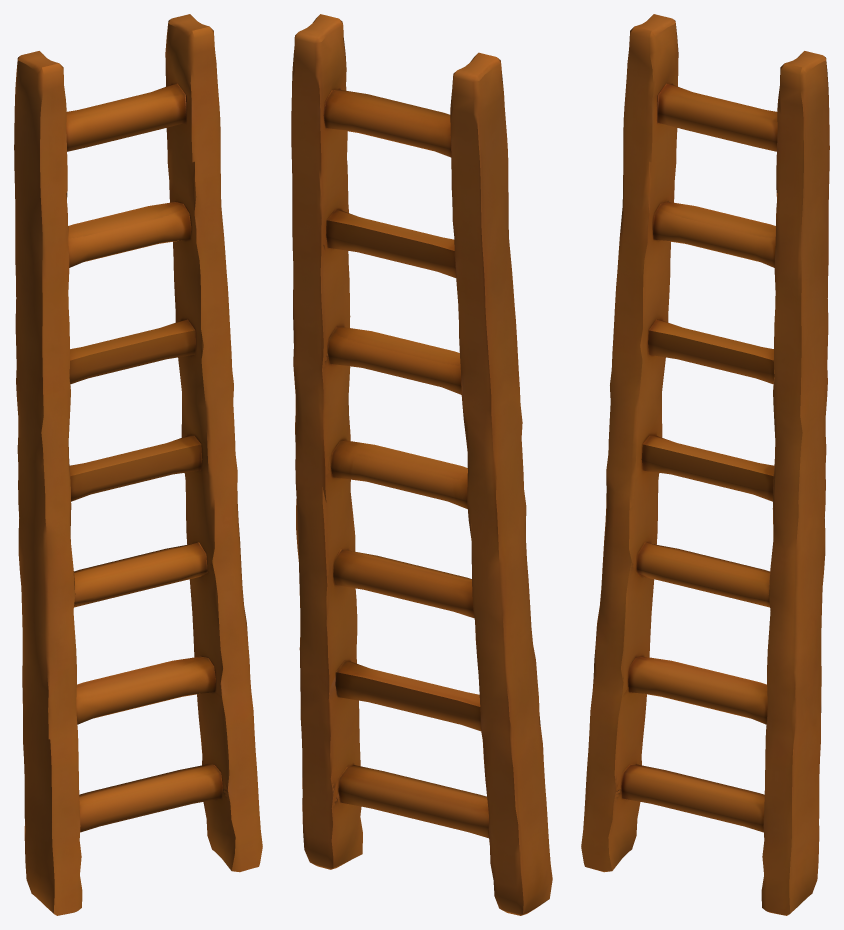
Rendered from base_basic_pbr.fbx.
3 views of the same model, side by side, from view 1: azimuth 30°, elevation 25°; view 2: azimuth 150°, elevation 25°; view 3: azimuth 330°, elevation 25° (orthographic). The views are drawn at different scales.
Parts seen in each view (by area): view 1: model; view 2: model; view 3: model.
Part boxes in pixels (x1=…): model: x1=14, y1=14, x2=262, y2=915; model: x1=291, y1=14, x2=552, y2=915; model: x1=581, y1=14, x2=829, y2=915.
Bounding box in the file's own units: 47.67 × 177 × 22.46.
Materials: 1 (1 with a texture image).
